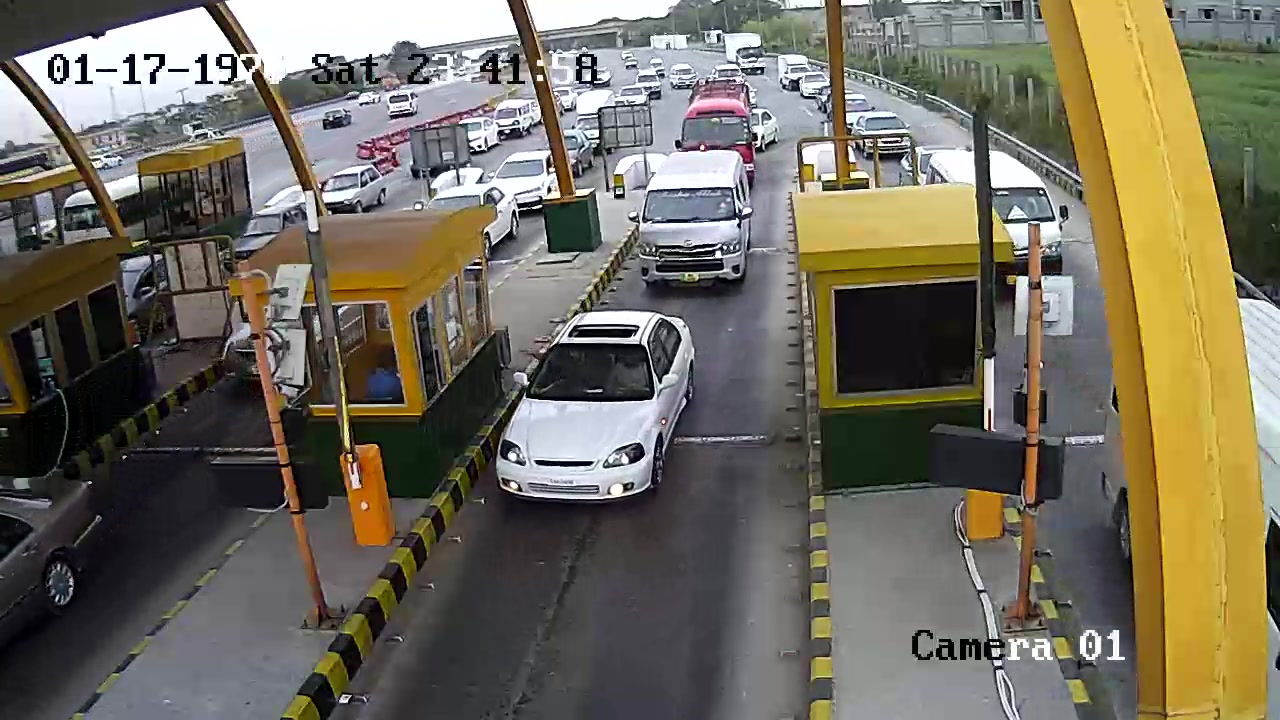F1: (487, 312, 718, 508)
F3: (633, 142, 751, 301)
